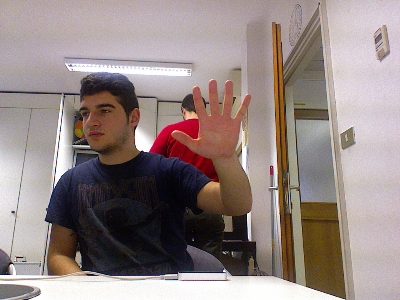布: (170, 77, 252, 160)
